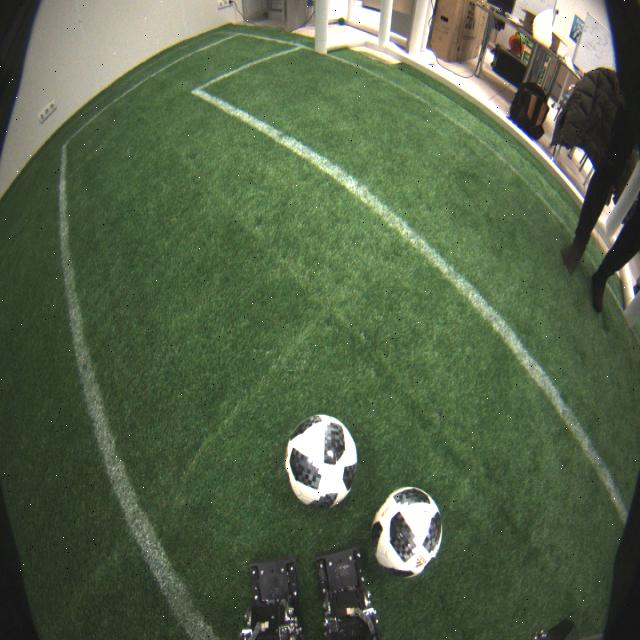ball: (285, 415, 358, 510), (371, 486, 442, 578)
goalpost: (314, 1, 330, 53), (625, 294, 639, 329)
